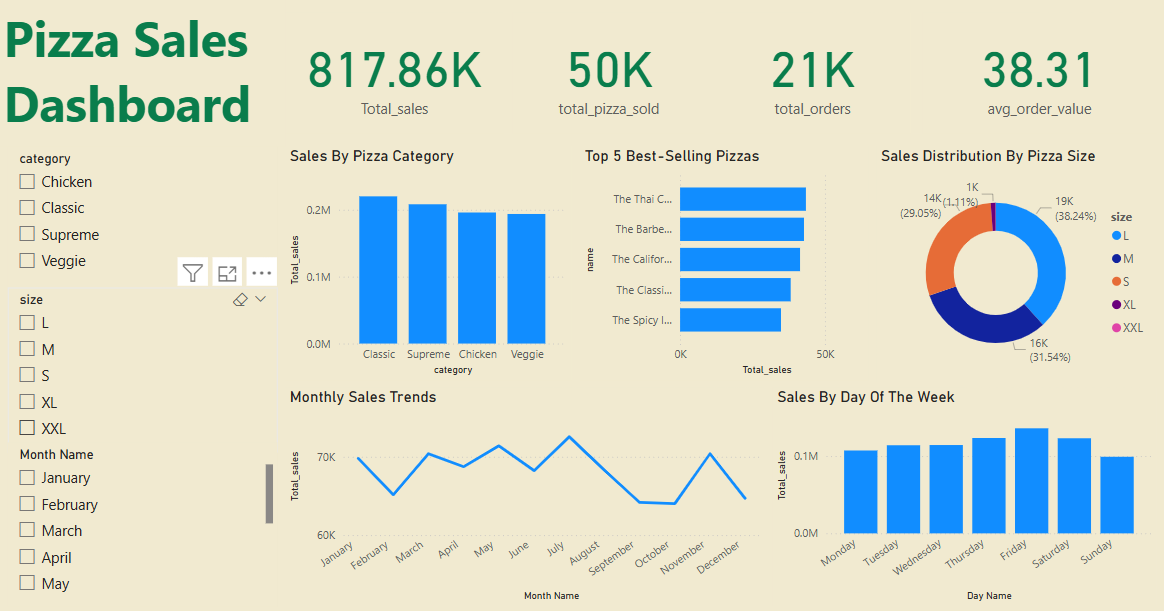

This screenshot's page, from the dashboard's own definition file:
{"tool":"powerbi","page":{"name":"Pizza Sales Dashboard","canvas":[1280,720],"ordinal":0},"visuals":[{"type":"card","fields":{"Values":["datasets.Total_sales"]},"box":[314.2,57.6,240.1,133.1],"z":0},{"type":"card","fields":{"Values":["datasets.total_orders"]},"box":[786.3,57.6,214.1,133.1],"z":1},{"type":"card","fields":{"Values":["datasets.total_pizza_sold"]},"box":[564,57.6,211.3,133.1],"z":2},{"type":"card","fields":{"Values":["datasets.avg_order_value"]},"box":[1014.1,57.6,256.6,133.1],"z":3},{"type":"lineChart","title":"Monthly Sales Trends","fields":{"Category":["orders.Month Name"],"Y":["datasets.Total_sales"]},"box":[314.2,469.3,525.6,240.1],"z":4},{"type":"barChart","title":"Top 5 Best-Selling Pizzas","fields":{"Y":["datasets.Total_sales"],"Category":["pizza_types.name"]},"box":[638.1,204.5,315.6,256.6],"z":5},{"type":"donutChart","title":"Sales Distribution By Pizza Size","fields":{"Category":["pizzas.size"],"Y":["Sum(order_details.quantity)"]},"box":[963.3,204.5,307.4,259.3],"z":6},{"type":"columnChart","title":"Sales By Pizza Category","fields":{"Category":["pizza_types.category"],"Y":["datasets.Total_sales"]},"box":[314.2,204.5,314.2,256.6],"z":7},{"type":"clusteredColumnChart","title":"Sales By Day Of The Week","fields":{"Category":["orders.Day Name"],"Y":["datasets.Total_sales"]},"box":[849.4,469.3,421.3,240.1],"z":8},{"type":"slicer","fields":{"Values":["pizza_types.category"]},"box":[9.6,204.5,296.4,155.1],"z":9},{"type":"slicer","fields":{"Values":["pizzas.size"]},"box":[9.6,359.5,296.4,181.1],"z":10},{"type":"slicer","fields":{"Values":["orders.Month Name"]},"box":[9.6,529.7,296.4,179.8],"z":11},{"type":"textbox","box":[0,43.9,314.2,160.5],"z":12}]}

Visuals, with their boxes on the page's 1280x720 design canvas (x1, y1, x2, y2). These are canvas units, not pixel positions in the 1164x611 screenshot, which may show the page scaled, cropped or inside an application window:
card - datasets.Total_sales: x1=314, y1=58, x2=554, y2=191
card - datasets.total_orders: x1=786, y1=58, x2=1000, y2=191
card - datasets.total_pizza_sold: x1=564, y1=58, x2=775, y2=191
card - datasets.avg_order_value: x1=1014, y1=58, x2=1271, y2=191
"Monthly Sales Trends" lineChart: x1=314, y1=469, x2=840, y2=709
"Top 5 Best-Selling Pizzas" barChart: x1=638, y1=204, x2=954, y2=461
"Sales Distribution By Pizza Size" donutChart: x1=963, y1=204, x2=1271, y2=464
"Sales By Pizza Category" columnChart: x1=314, y1=204, x2=628, y2=461
"Sales By Day Of The Week" clusteredColumnChart: x1=849, y1=469, x2=1271, y2=709
slicer - pizza_types.category: x1=10, y1=204, x2=306, y2=360
slicer - pizzas.size: x1=10, y1=360, x2=306, y2=541
slicer - orders.Month Name: x1=10, y1=530, x2=306, y2=710
textbox: x1=0, y1=44, x2=314, y2=204
